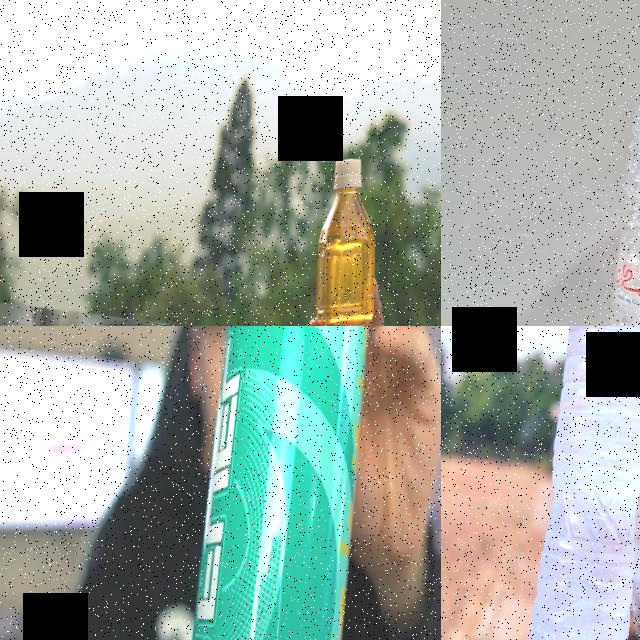bottle: (511, 326, 640, 640), (570, 29, 640, 326), (298, 152, 401, 326)
can: (165, 326, 400, 640)
